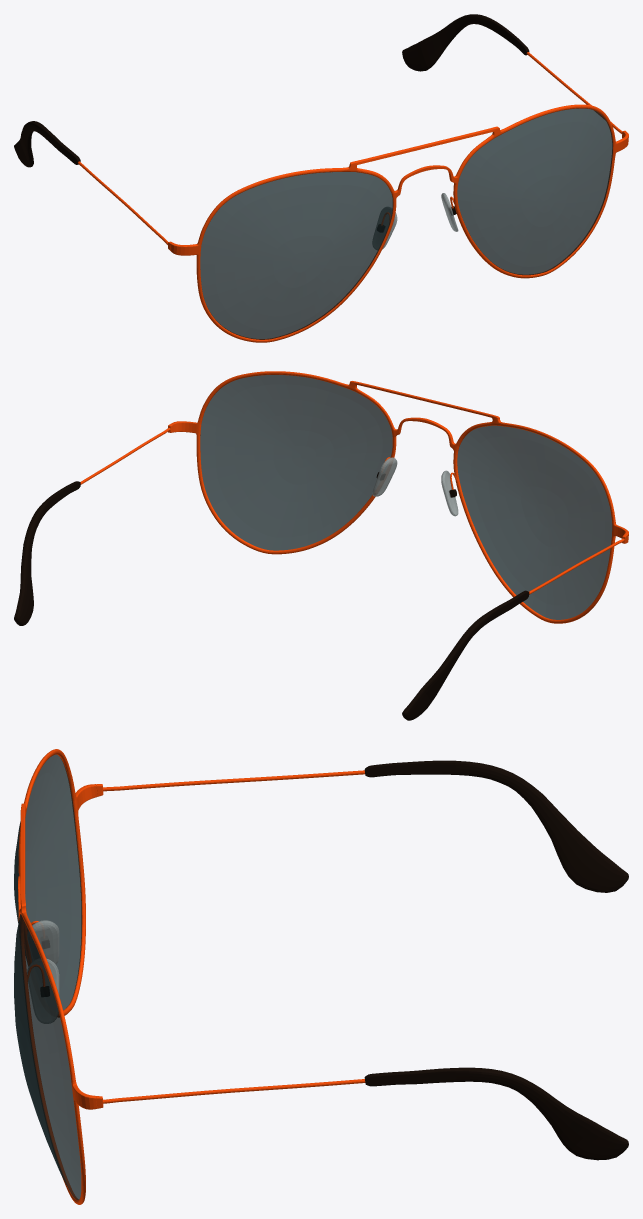
Rendered from SunGlasses.FBX.
3 views of the same model, one above another, from view 1: azimuth 30°, elevation 25°; view 2: azimuth 150°, elevation 25°; view 3: azimuth 270°, elevation 25° (orthographic). The views are drawn at different scales.
Parts seen in each view (by area): view 1: SunGlasses; view 2: SunGlasses; view 3: SunGlasses.
Boxes of the visible parts, left/top/right/bottom form: SunGlasses: left=14, top=14, right=628, bottom=342; SunGlasses: left=14, top=371, right=628, bottom=720; SunGlasses: left=14, top=749, right=628, bottom=1204.
Bounding box in the file's own units: 0.2004 × 0.0738 × 0.1656.
